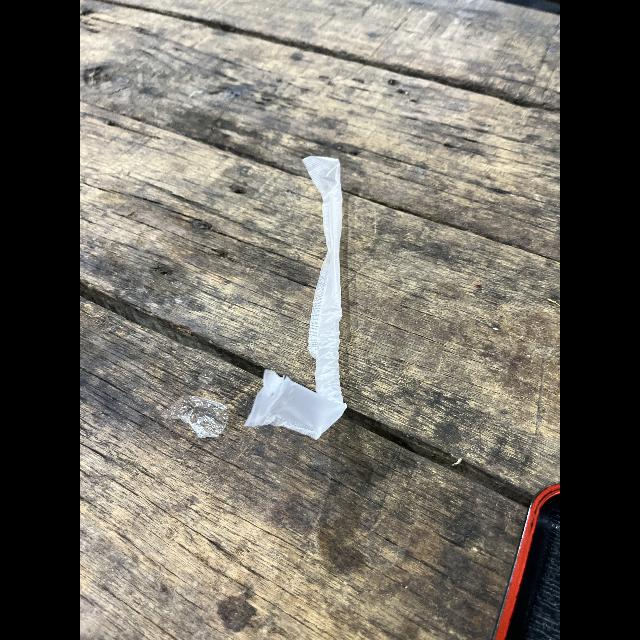scrap_plastic: (254, 146, 350, 438), (167, 387, 227, 439)
